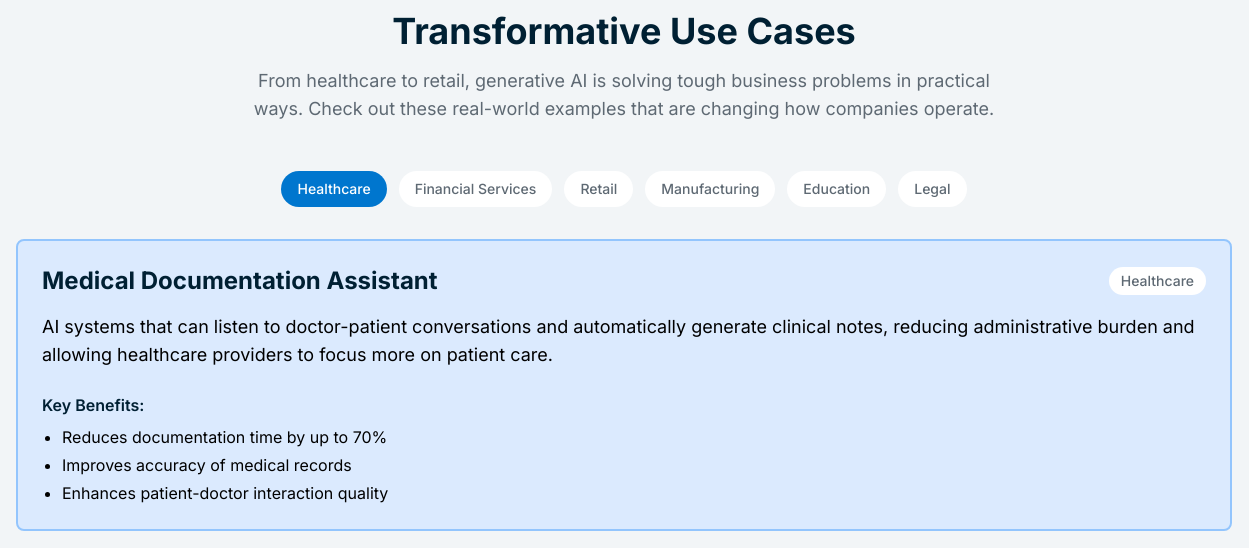
Scenario: UseCases Component › renders the Education use case when its button is clicked
The image size is (1249, 548).
Click on the Education industry button
Step 1. Click the button "Education" → (837, 189), box [787,171,886,207]
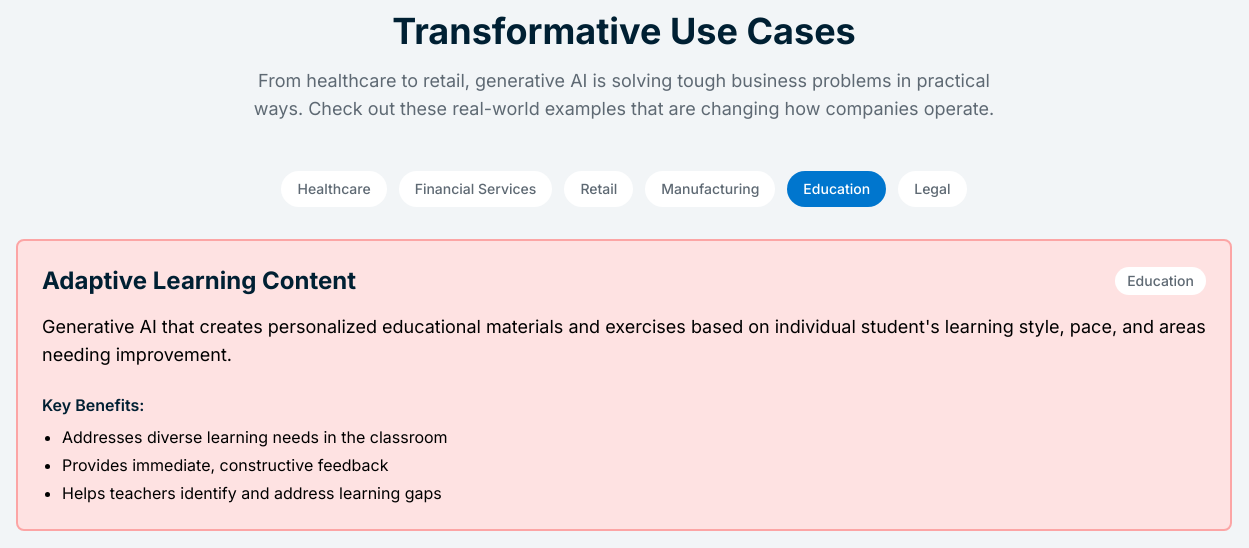
Expected: the heading "Adaptive Learning Content" is shown, [42,265,356,297]
Expected: the text "Generative AI that creates personalized educational materials and exercises based on individual student's learning style" is shown, [42,316,1206,365]
